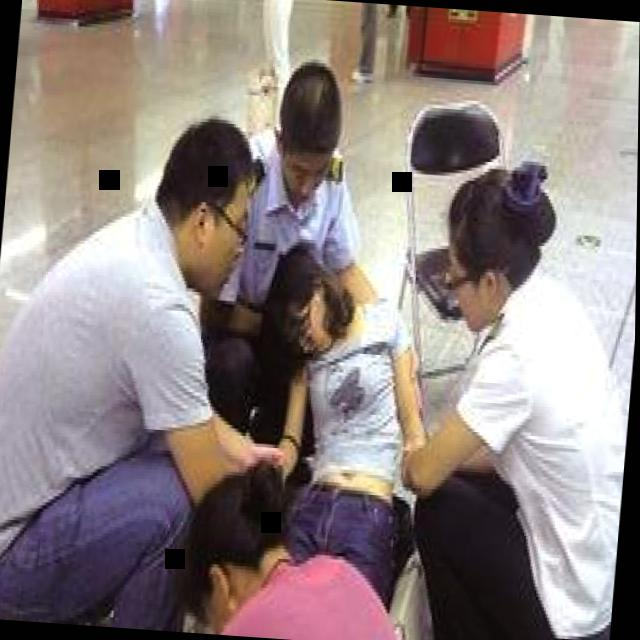Fall-Detected: (254, 240, 446, 588)
